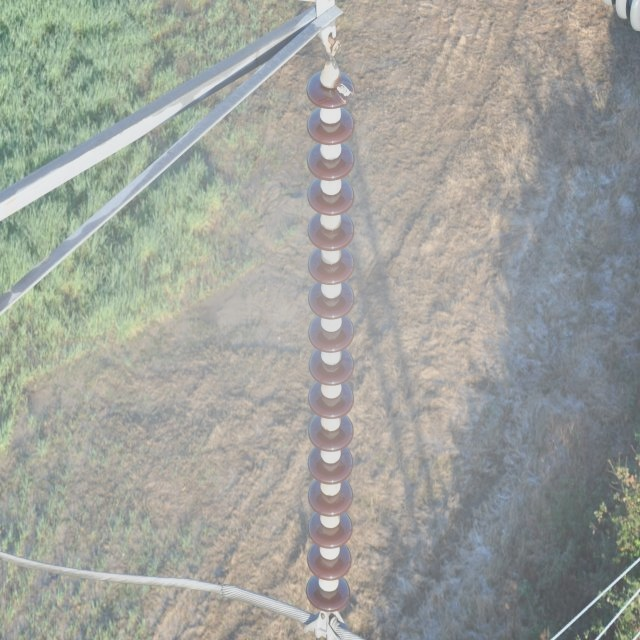insulator: (306, 72, 356, 612)
